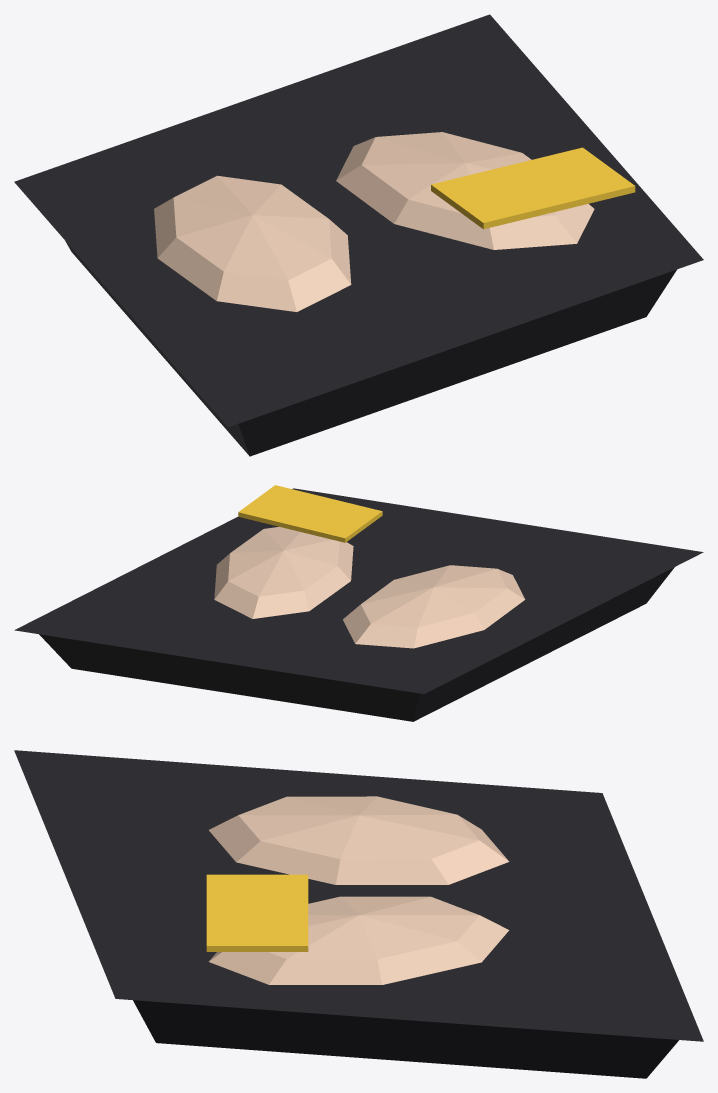
Rendered from g-chicken.glb.
3 views of the same model, one above another, from view 1: azimuth 30°, elevation 25°; view 2: azimuth 150°, elevation 25°; view 3: azimuth 270°, elevation 25° (orthographic). The views are drawn at different scales.
Visible parts, largest first — view 1: g_chicken; view 2: g_chicken; view 3: g_chicken.
Boxes of the visible parts, box(x1,y1,x2,y2) form: g_chicken: box(14, 14, 703, 456); g_chicken: box(14, 485, 703, 721); g_chicken: box(14, 750, 703, 1078).
Size of the model in its own units: 0.204 by 0.034 by 0.204.
